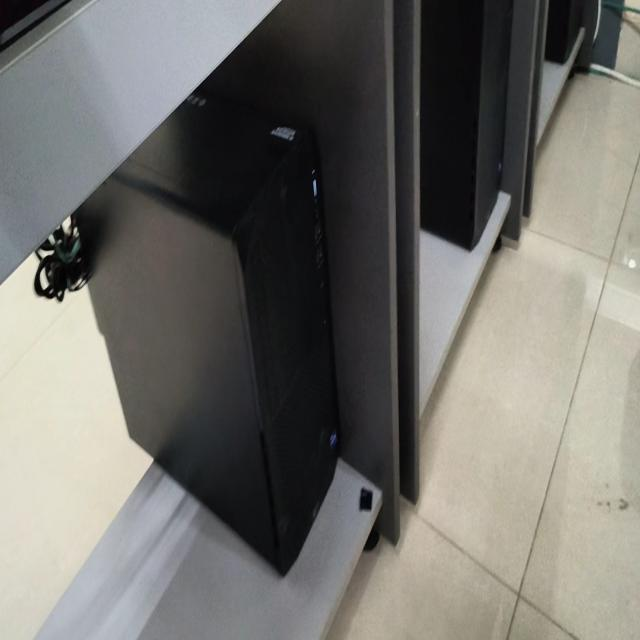Cpu: (77, 92, 339, 574), (420, 0, 513, 250), (545, 0, 583, 64)
Keyboard: (0, 0, 69, 52)
